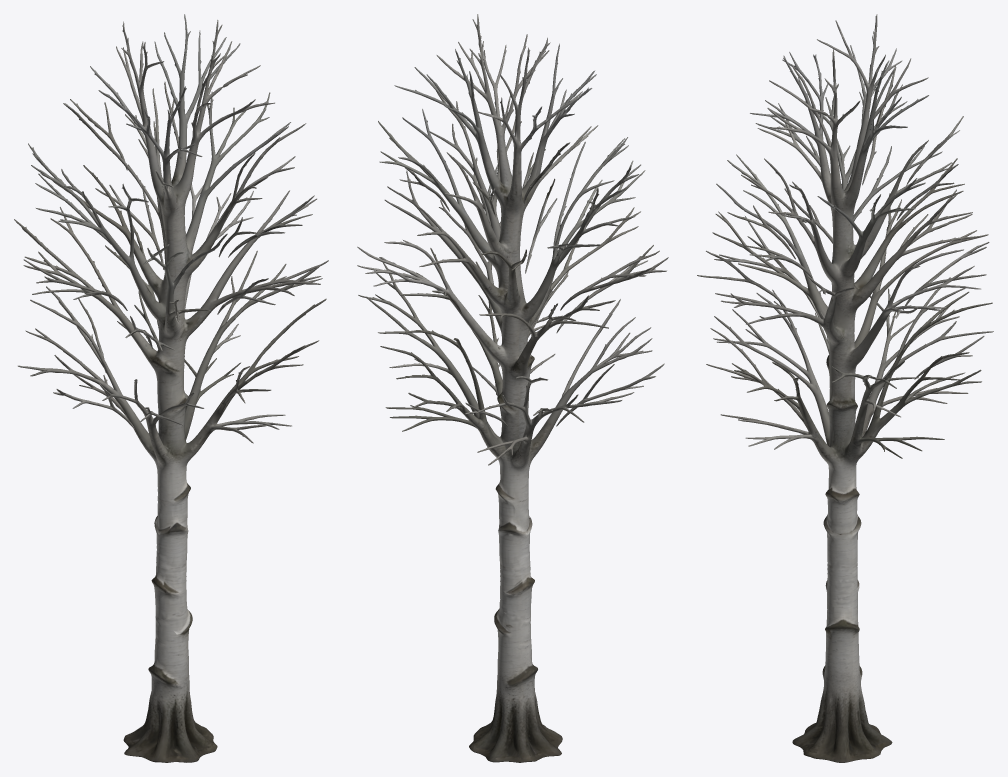
File: berch.glb
3 renders of one model, left to right at view 1: azimuth 30°, elevation 25°; view 2: azimuth 150°, elevation 25°; view 3: azimuth 270°, elevation 25°, orthographic.
Visible parts, largest first — view 1: node_0; view 2: node_0; view 3: node_0.
Boxes of the visible parts, x1,y1,x2,y2 form: node_0: [14, 14, 328, 762]; node_0: [357, 14, 668, 762]; node_0: [697, 14, 993, 762].
Bounding box in the file's own units: 0.5031 × 1.19 × 0.4477.
Materials: 1 (1 with a texture image).
